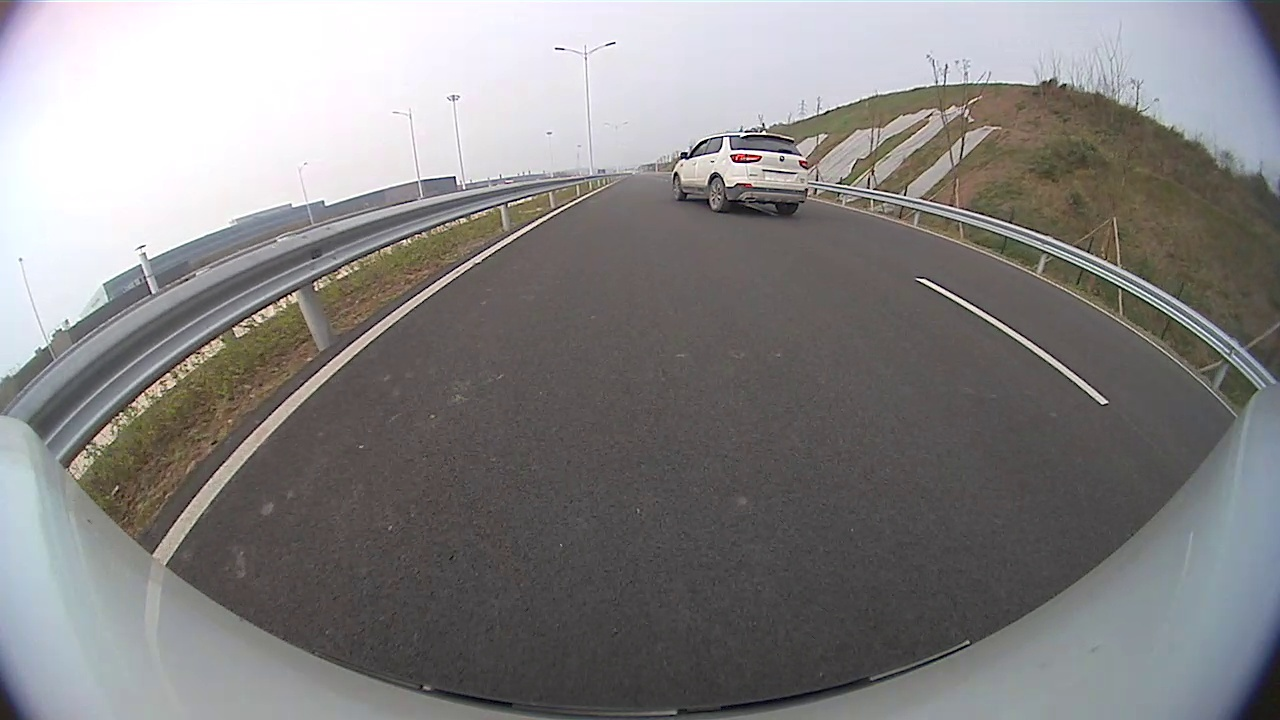car: (670, 132, 810, 215)
front: (670, 175, 687, 204)
rear: (707, 175, 732, 215)
